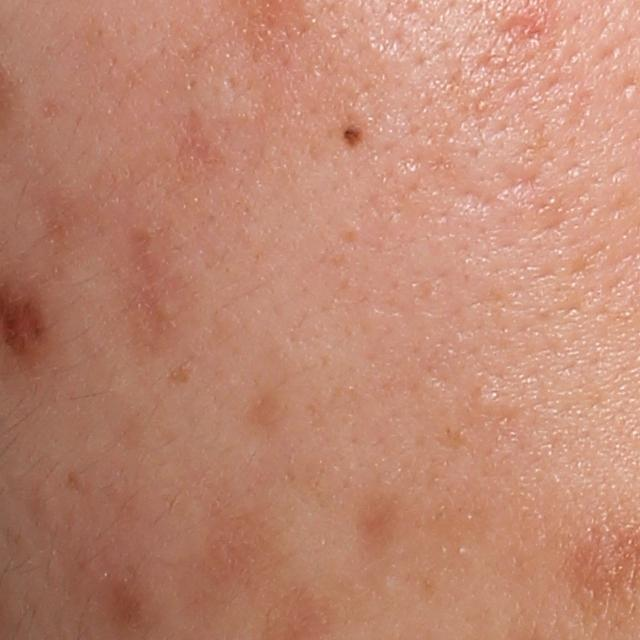comedo: (470, 387, 504, 416)
